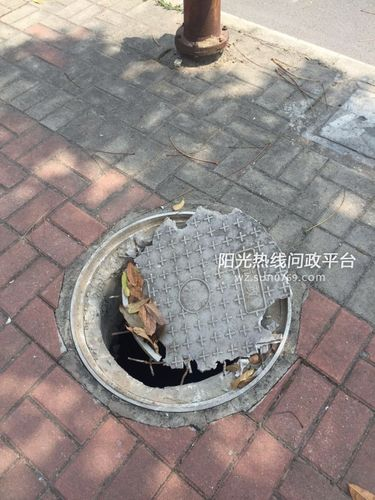broke: (47, 196, 320, 429)
